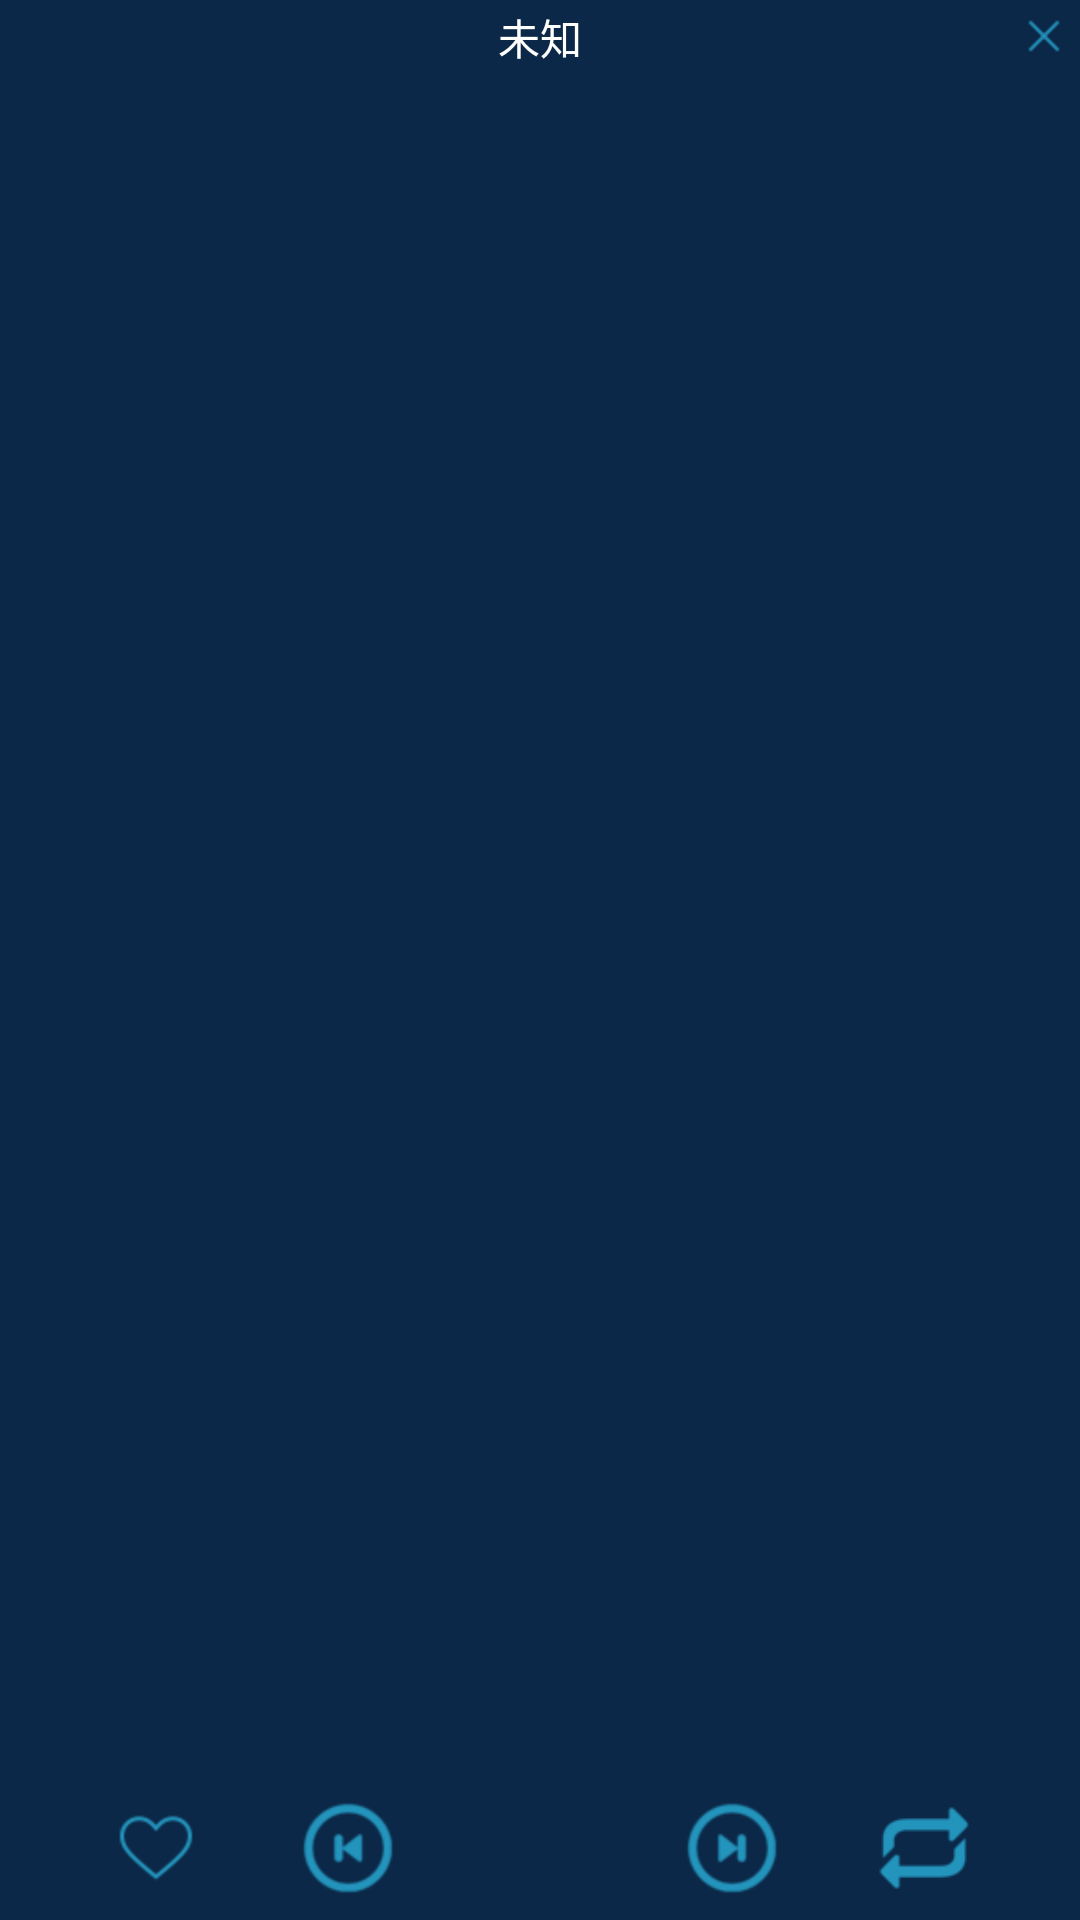

Named icons in this screenshot (1080px×1920px) and their bounding boxes, (x1, y1, x2, y2):
close: (1029, 21, 1059, 51)
favorite: (119, 1816, 193, 1879)
next: (687, 1803, 777, 1893)
order: (880, 1807, 969, 1889)
previous: (303, 1803, 393, 1893)
